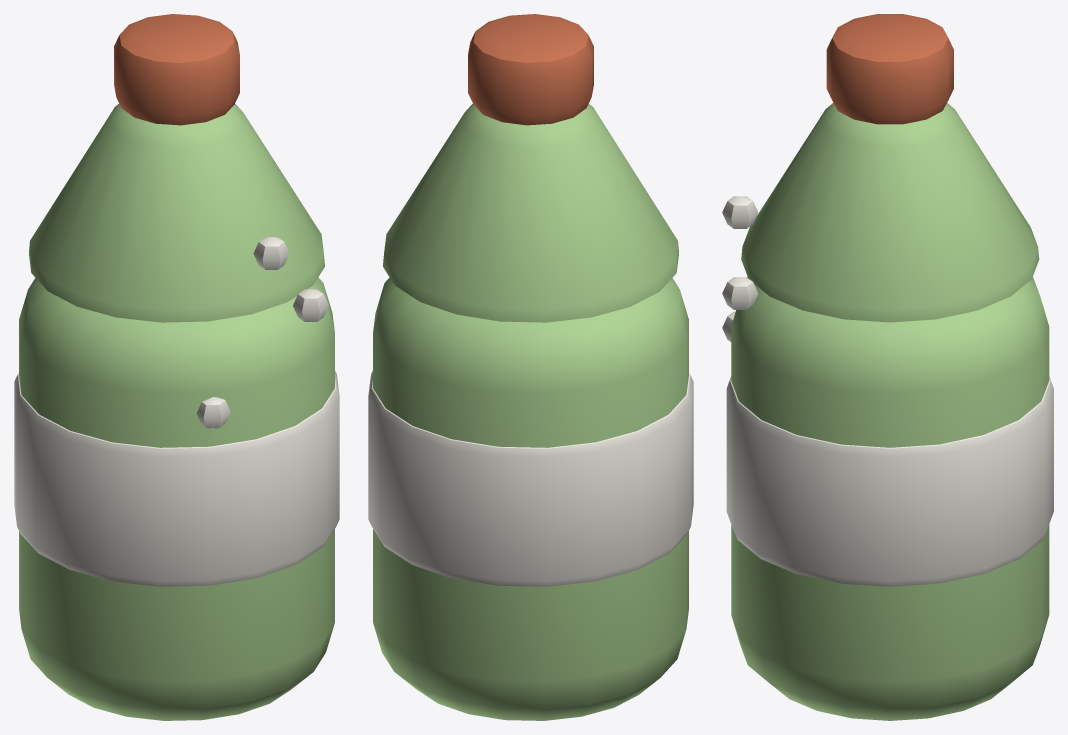
The model's file is fizzy_pop.glb.
The picture shows the model from 3 angles, left to right: view 1: azimuth 30°, elevation 25°; view 2: azimuth 150°, elevation 25°; view 3: azimuth 270°, elevation 25°; orthographic projection.
Visible parts, largest first — view 1: pop, sheet, food_c; view 2: pop, sheet, food_c; view 3: pop, sheet, food_c.
Boxes of the visible parts, left/top/right/bottom form: pop: left=19, top=104, right=334, bottom=720; sheet: left=14, top=237, right=339, bottom=586; food_c: left=114, top=14, right=239, bottom=125; pop: left=373, top=104, right=688, bottom=720; sheet: left=368, top=371, right=693, bottom=586; food_c: left=468, top=14, right=593, bottom=125; pop: left=731, top=103, right=1049, bottom=720; sheet: left=722, top=196, right=1053, bottom=586; food_c: left=826, top=14, right=953, bottom=124.
Size of the model in its own units: 0.144 by 0.3125 by 0.146.
